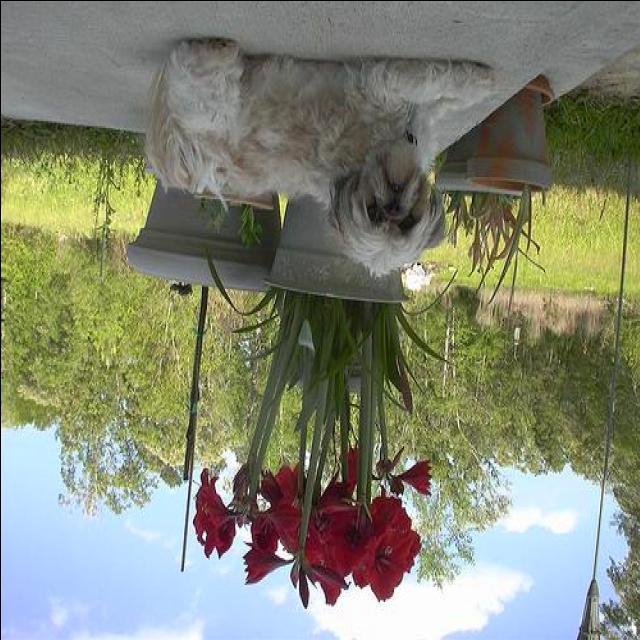shih_tzu: (143, 38, 497, 276)
